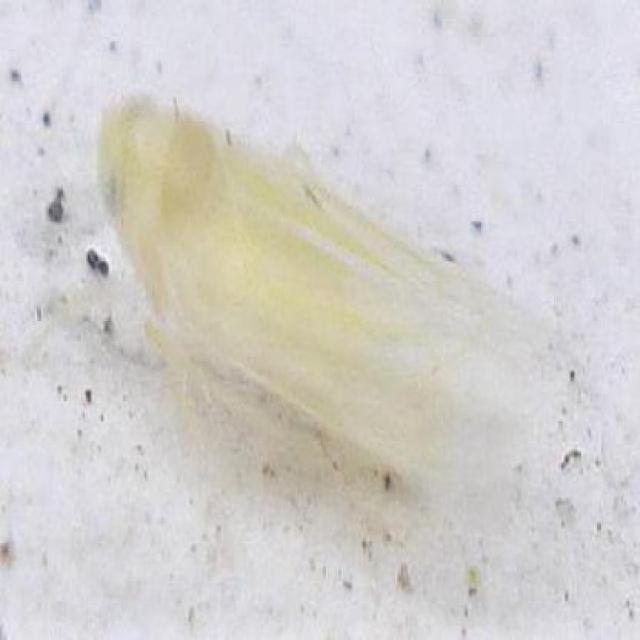green-leafhopper: (91, 79, 577, 526)
